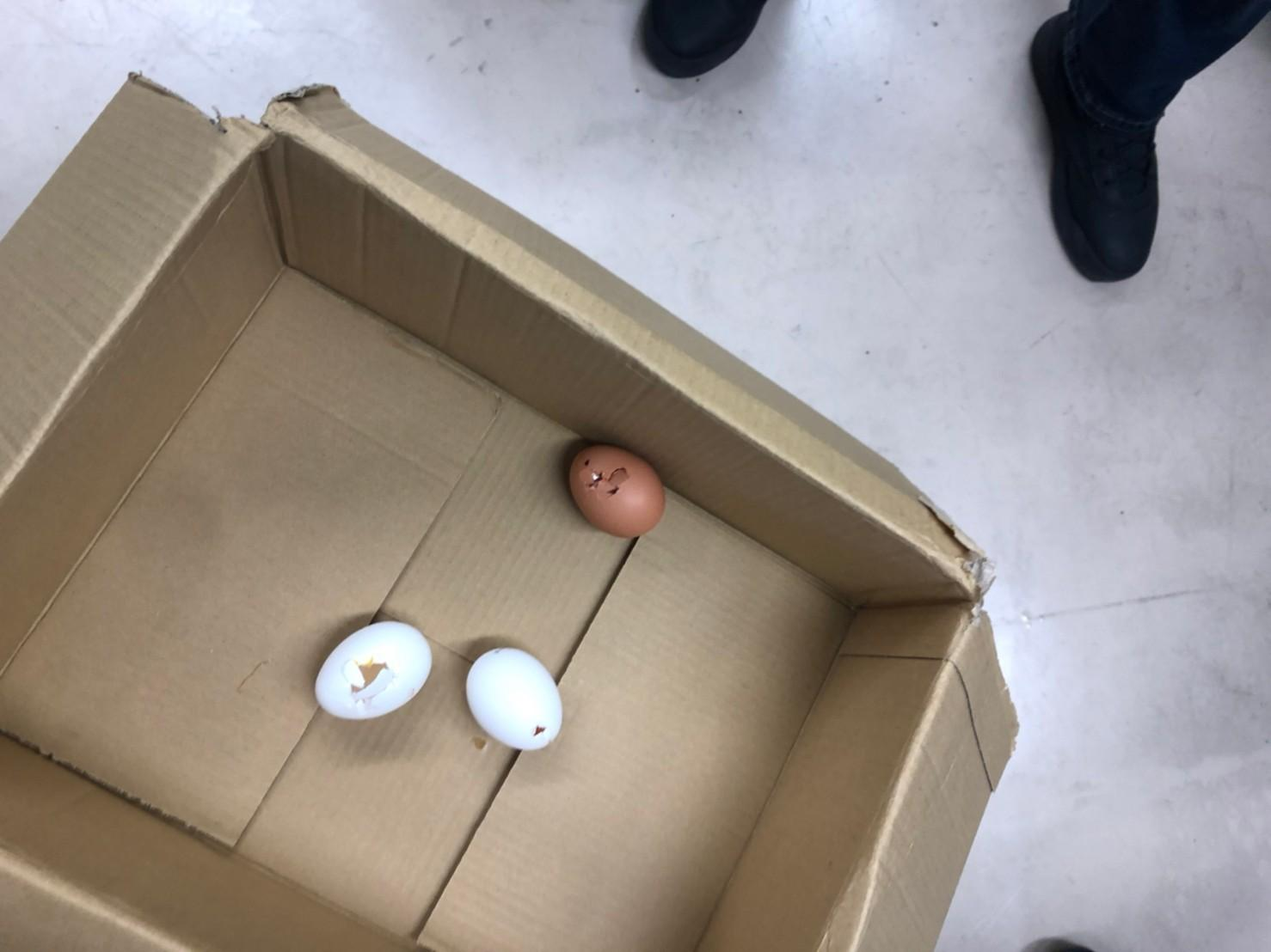egg: (310, 616, 430, 723), (461, 641, 565, 752), (565, 437, 669, 541)
